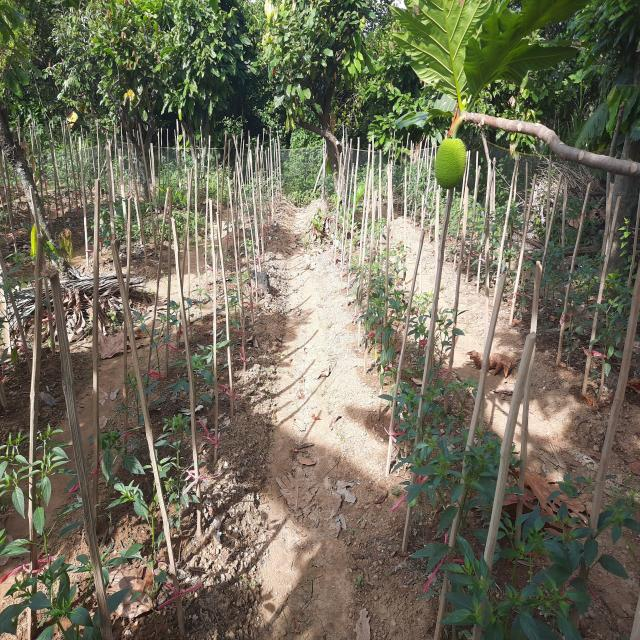sehat: (433, 495, 460, 544), (71, 609, 98, 630), (122, 454, 145, 476), (38, 476, 53, 509), (134, 499, 153, 524)
